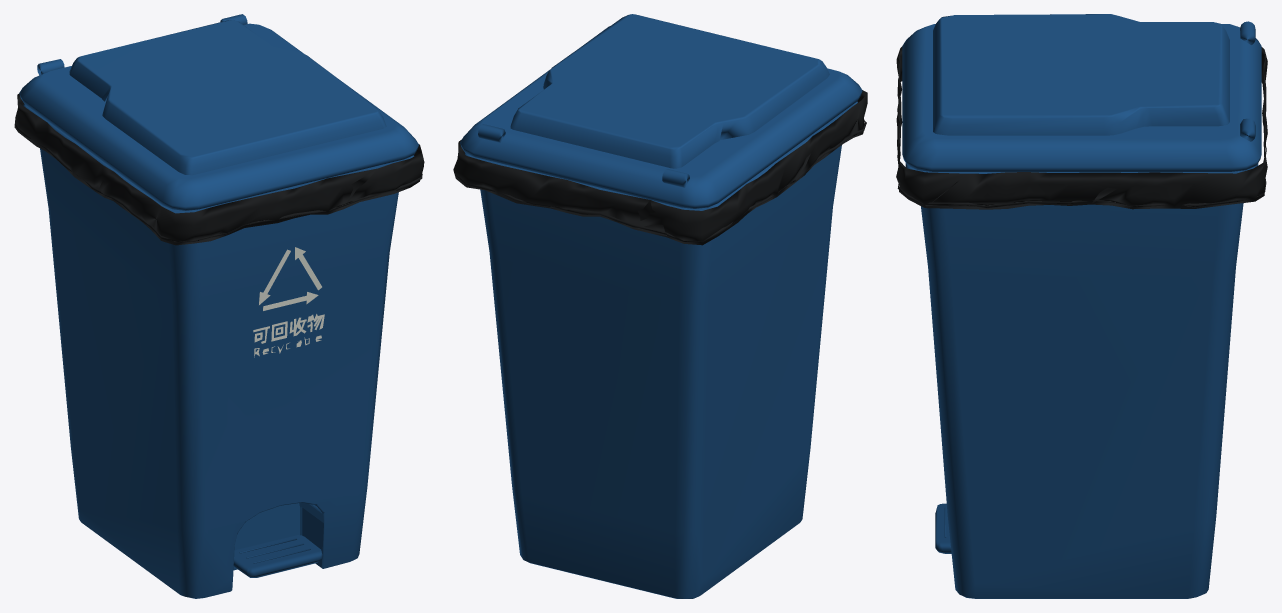
3 renders of one model, left to right at view 1: azimuth 30°, elevation 25°; view 2: azimuth 150°, elevation 25°; view 3: azimuth 270°, elevation 25°, orthographic. The views are drawn at different scales.
Visible parts, largest first — view 1: Continuous tapered rounded bin shell, Shaped lid lip and sloping outer shoulder, Irregular black liner folded over the upper rim, Recessed rounded front foot pedal, White triangular arrow 1; view 2: Continuous tapered rounded bin shell, Shaped lid lip and sloping outer shoulder, Irregular black liner folded over the upper rim; view 3: Continuous tapered rounded bin shell, Shaped lid lip and sloping outer shoulder, Irregular black liner folded over the upper rim, Recessed rounded front foot pedal.
Part boxes in pixels (x1,y1,x2,y2): Continuous tapered rounded bin shell: (23,14,414,598); Shaped lid lip and sloping outer shoulder: (19,19,418,210); Irregular black liner folded over the upper rim: (14,93,424,245); Recessed rounded front foot pedal: (233,535,322,577); White triangular arrow 1: (253,247,324,357); Continuous tapered rounded bin shell: (465,101,857,598); Shaped lid lip and sloping outer shoulder: (460,14,862,208); Irregular black liner folded over the upper rim: (453,90,867,245); Continuous tapered rounded bin shell: (905,21,1258,598); Shaped lid lip and sloping outer shoulder: (902,14,1261,171); Irregular black liner folded over the upper rim: (896,46,1267,209); Recessed rounded front foot pedal: (935,503,951,553).
Size of the model in its own units: 0.5013 by 0.824 by 0.5673.
